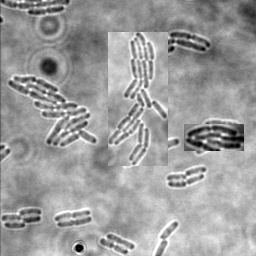Dividing: (167, 175, 204, 189), (99, 238, 128, 255), (54, 209, 90, 222), (56, 217, 92, 228), (27, 7, 64, 17)
Microcolony: (108, 32, 168, 166), (7, 76, 98, 147), (135, 32, 211, 57), (184, 124, 244, 151), (1, 208, 42, 229)
Rod: (106, 233, 135, 251), (157, 222, 178, 240), (184, 167, 206, 177), (166, 174, 187, 183)
